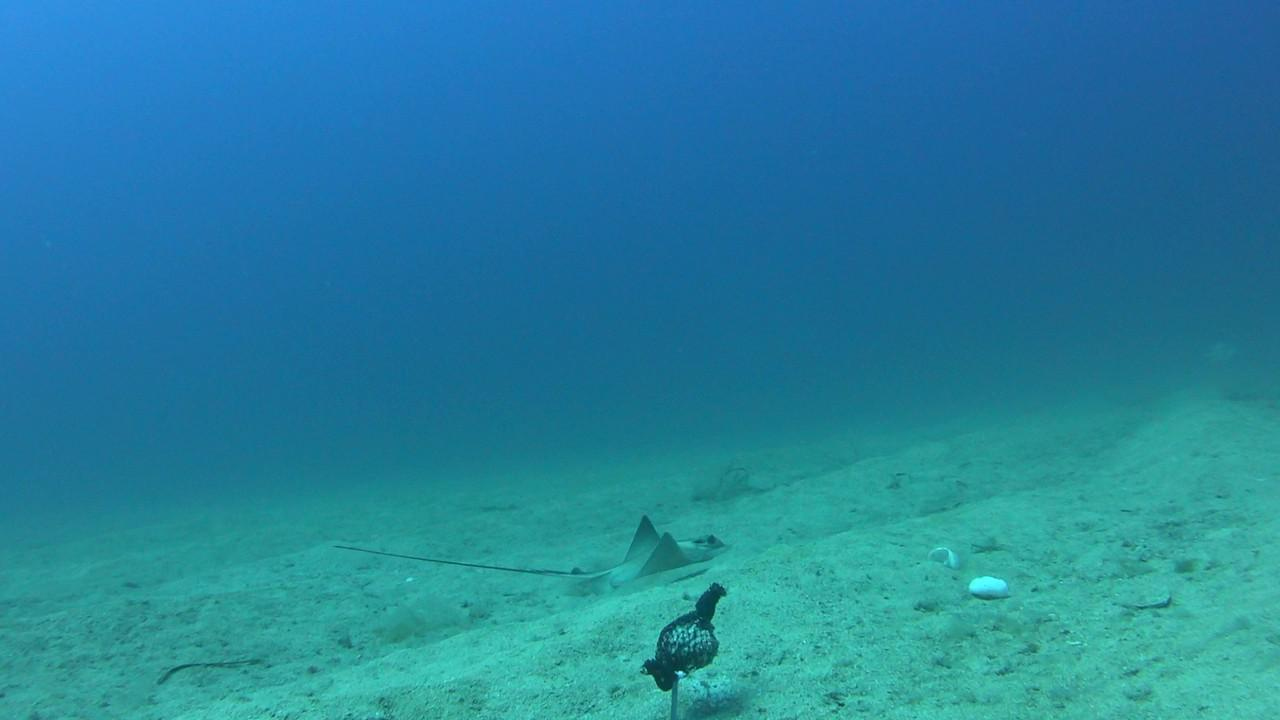myliobatis: (318, 511, 738, 596)
